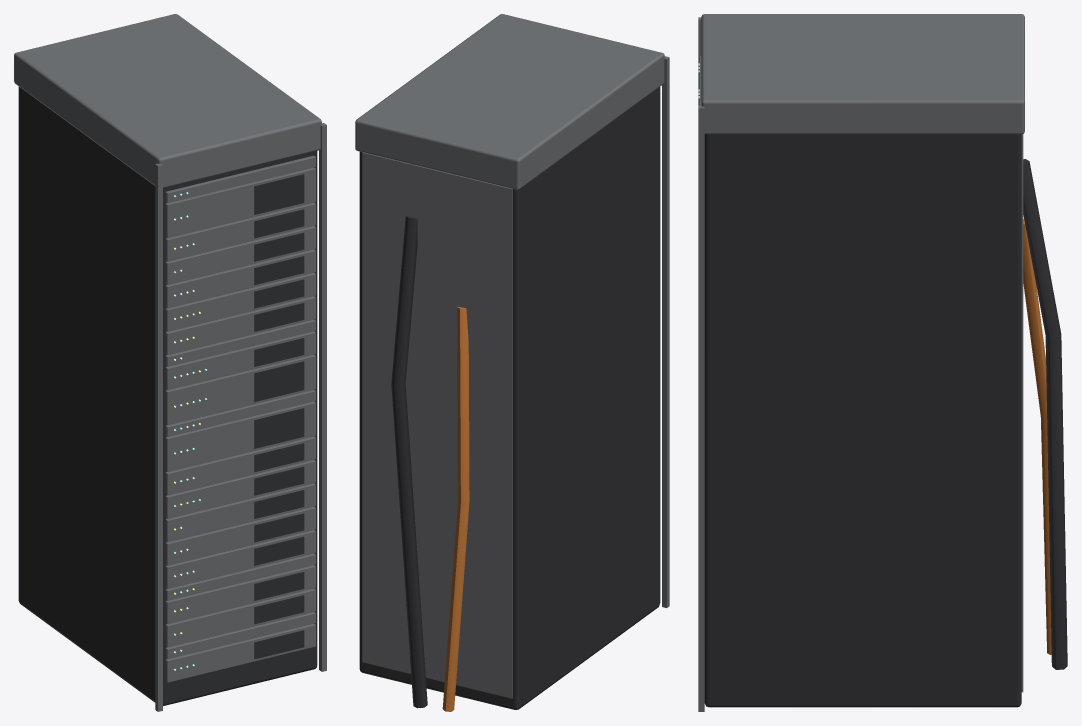
File: server_rack.glb
The picture shows the model from 3 angles, left to right: view 1: azimuth 30°, elevation 25°; view 2: azimuth 150°, elevation 25°; view 3: azimuth 270°, elevation 25°; orthographic projection. The views are drawn at different scales.
Parts seen in each view (by area): view 1: server_rack; view 2: server_rack; view 3: server_rack.
Part boxes in pixels (bbox=[...]): server_rack: bbox=[14, 14, 326, 711]; server_rack: bbox=[355, 14, 669, 711]; server_rack: bbox=[698, 14, 1067, 711].
Size of the model in its own units: 0.68 by 2.12 by 1.16.
